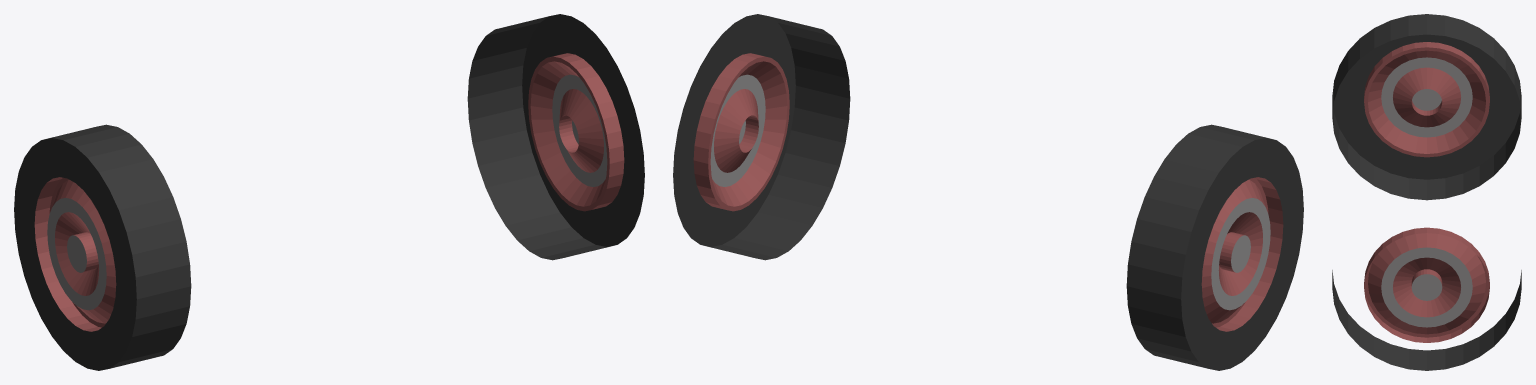
Rendered from bus-wheel.dae.
The picture shows the model from 3 angles, left to right: view 1: azimuth 30°, elevation 25°; view 2: azimuth 150°, elevation 25°; view 3: azimuth 270°, elevation 25°; orthographic projection. The views are drawn at different scales.
Parts seen in each view (by area): view 1: Circle; view 2: Circle; view 3: Circle.
Part boxes in pixels (<box>): Circle: <box>14,14,644,370</box>; Circle: <box>673,14,1303,370</box>; Circle: <box>1332,14,1521,370</box>.
Size of the model in its own units: 1.57 by 0.6582 by 0.6355.
